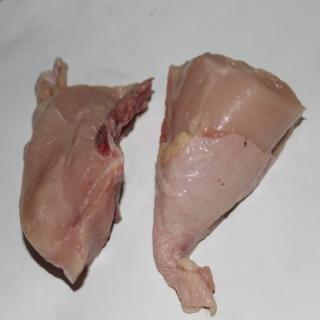Ayam: (157, 55, 303, 314), (20, 60, 154, 284)
